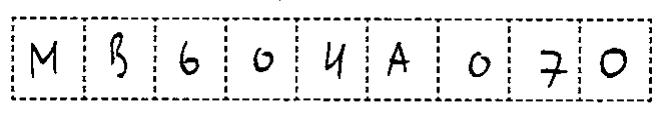0: (594, 42, 632, 80), (462, 45, 498, 84), (244, 42, 280, 80)
4: (318, 37, 353, 84)
6: (174, 35, 204, 81)
7: (531, 44, 572, 93)
A: (382, 36, 414, 82)
B: (104, 27, 135, 83)
M: (24, 35, 65, 82)
